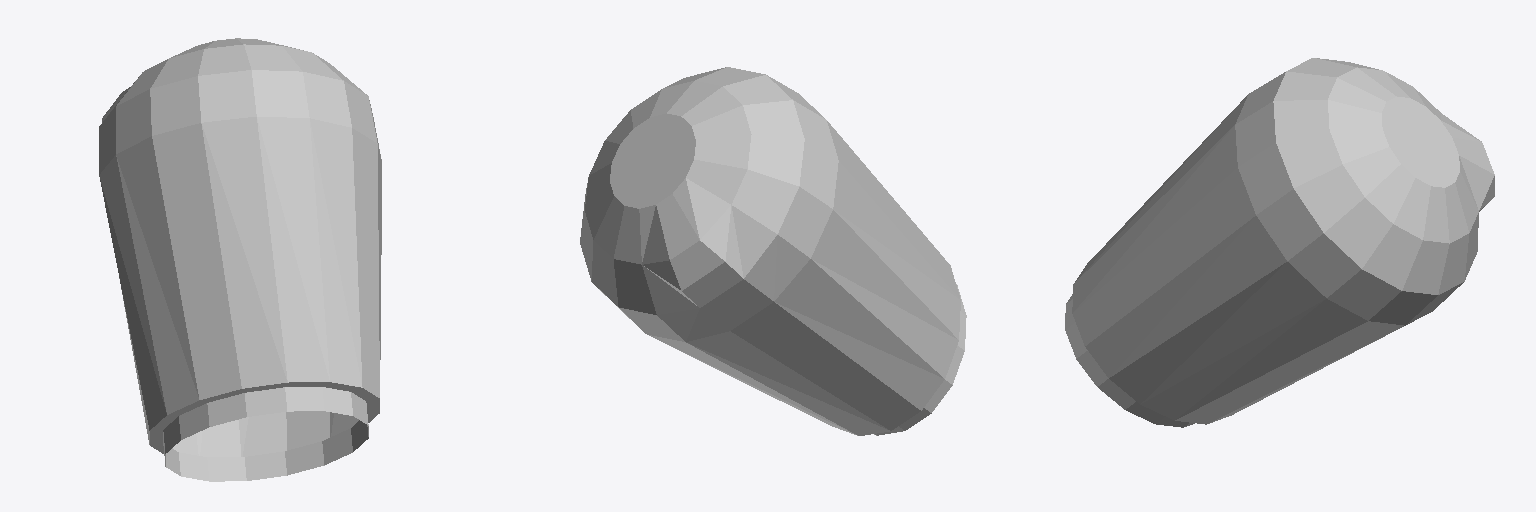
Rendered from lowarmR.obj.
3 renders of one model, left to right at view 1: azimuth 30°, elevation 25°; view 2: azimuth 150°, elevation 25°; view 3: azimuth 270°, elevation 25°, orthographic.
Visible parts, largest first — view 1: initialShadingGroup lowarmR, initialShadingGroup lowarmR1, initialShadingGroup sleaveR1; view 2: initialShadingGroup lowarmR1, initialShadingGroup lowarmR, initialShadingGroup sleaveR1; view 3: initialShadingGroup lowarmR, initialShadingGroup lowarmR1, initialShadingGroup sleaveR1.
Part boxes in pixels (bbox=[...]): initialShadingGroup lowarmR: bbox=[99, 117, 381, 456]; initialShadingGroup lowarmR1: bbox=[99, 38, 381, 453]; initialShadingGroup sleaveR1: bbox=[163, 387, 368, 481]; initialShadingGroup lowarmR1: bbox=[580, 67, 838, 341]; initialShadingGroup lowarmR: bbox=[610, 113, 960, 435]; initialShadingGroup sleaveR1: bbox=[874, 284, 966, 435]; initialShadingGroup lowarmR: bbox=[1072, 95, 1459, 424]; initialShadingGroup lowarmR1: bbox=[1235, 58, 1494, 325]; initialShadingGroup sleaveR1: bbox=[1065, 294, 1194, 427].
Size of the model in its own units: 0.9208 by 1.16 by 1.21.